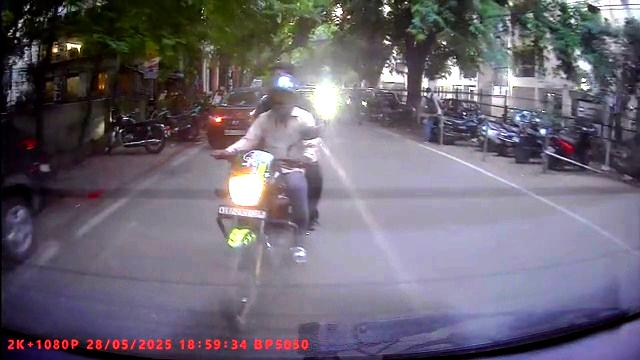motorcycle_with_helmet: (210, 63, 329, 334)
